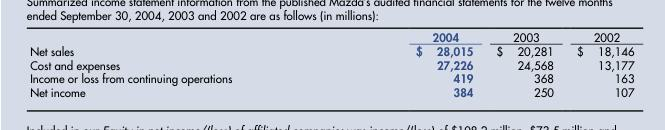table: (29, 29, 633, 99)
table column: (29, 29, 323, 99), (323, 29, 483, 99), (483, 29, 564, 99), (564, 29, 633, 99)
table column header: (29, 29, 633, 43)
table row: (29, 29, 633, 43), (29, 43, 633, 57), (29, 57, 633, 71), (29, 71, 633, 85), (29, 85, 633, 99)
